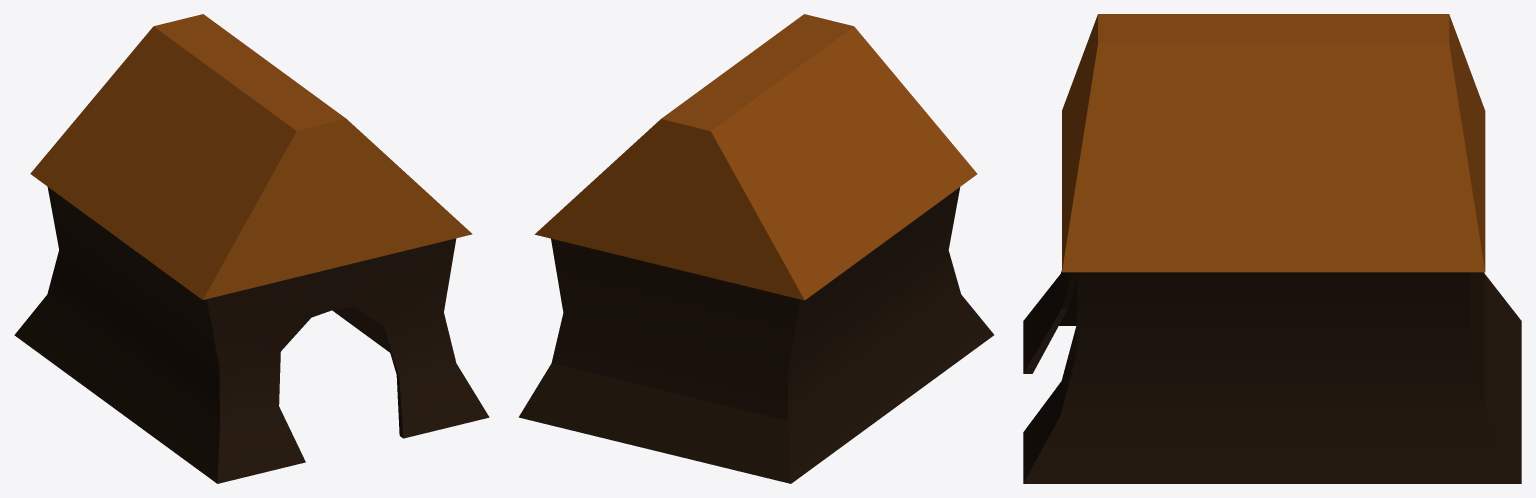
File: Yard_BackYard_DogHouse.FBX
The picture shows the model from 3 angles, left to right: view 1: azimuth 30°, elevation 25°; view 2: azimuth 150°, elevation 25°; view 3: azimuth 270°, elevation 25°; orthographic projection. The views are drawn at different scales.
Visible parts, largest first — view 1: Yard_BackYard_DogHouse_roof, Yard_BackYard_DogHouse_base; view 2: Yard_BackYard_DogHouse_base, Yard_BackYard_DogHouse_roof; view 3: Yard_BackYard_DogHouse_roof, Yard_BackYard_DogHouse_base.
Boxes of the visible parts, x1=… form: Yard_BackYard_DogHouse_roof: x1=30, y1=14, x2=472, y2=299; Yard_BackYard_DogHouse_base: x1=14, y1=187, x2=489, y2=483; Yard_BackYard_DogHouse_base: x1=518, y1=187, x2=993, y2=483; Yard_BackYard_DogHouse_roof: x1=534, y1=14, x2=977, y2=300; Yard_BackYard_DogHouse_roof: x1=1062, y1=14, x2=1485, y2=272; Yard_BackYard_DogHouse_base: x1=1023, y1=270, x2=1521, y2=483.
Size of the model in its own units: 173 by 185 by 224.
